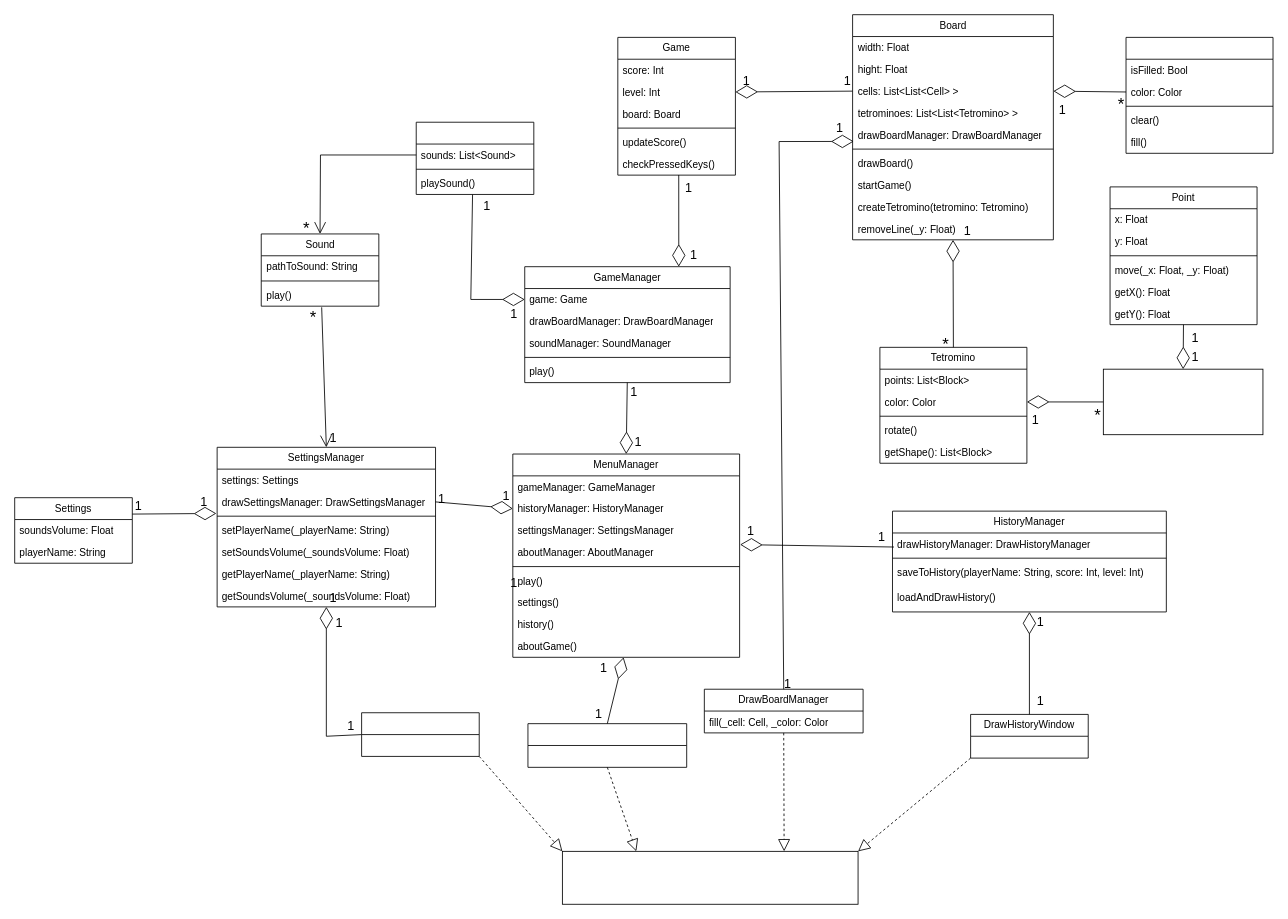
Image size: 1288x919. Some labels were removed from this diagram. Here are the shapes that lost their labels. From the top down, the box of each, then its label:
(1125, 37, 1273, 153): Cell
(415, 121, 534, 194): SoundManager
(1102, 368, 1263, 435): <<Abstract>> Block point: Point status: Bool
(361, 712, 479, 756): DrawSettingWindow
(527, 723, 687, 767): DrawAboutManager
(562, 850, 858, 904): <<Interface>> Drawable draw()
